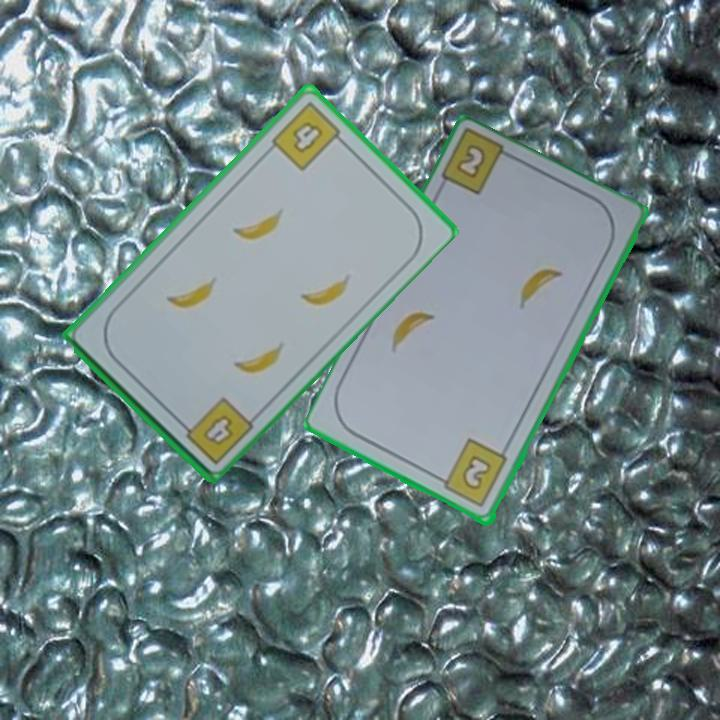2b: (433, 436, 511, 511), (452, 141, 489, 182)
4b: (267, 98, 349, 174), (174, 393, 256, 468)
